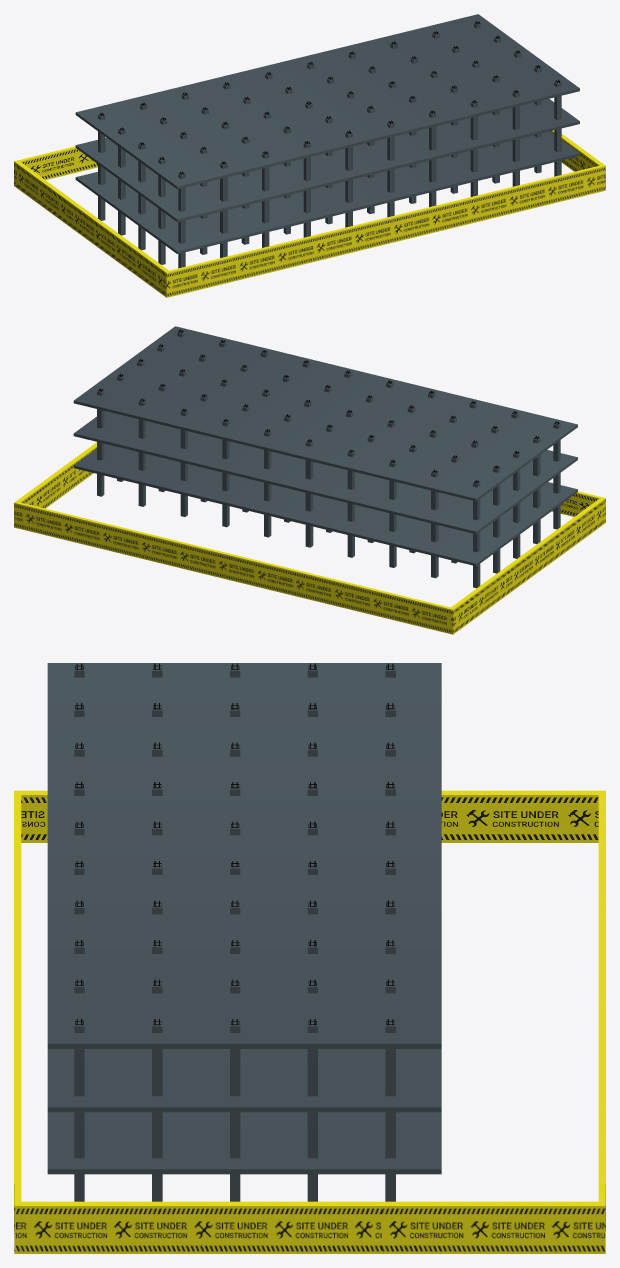
Rendered from Construction2.fbx.
The picture shows the model from 3 angles, top to bottom: view 1: azimuth 30°, elevation 25°; view 2: azimuth 150°, elevation 25°; view 3: azimuth 270°, elevation 25°; orthographic projection. The views are drawn at different scales.
Visible parts, largest first — view 1: PlaceContruction2_LOD0, GateConstruction2; view 2: PlaceContruction2_LOD0, GateConstruction2; view 3: PlaceContruction2_LOD0, GateConstruction2.
Boxes of the visible parts, bbox=[...] form: PlaceContruction2_LOD0: bbox=[75, 14, 579, 268]; GateConstruction2: bbox=[14, 130, 605, 297]; PlaceContruction2_LOD0: bbox=[73, 326, 577, 588]; GateConstruction2: bbox=[14, 442, 605, 634]; PlaceContruction2_LOD0: bbox=[47, 663, 441, 1201]; GateConstruction2: bbox=[14, 790, 605, 1253].
Size of what is drawn, in the model's own units: 7991 by 1847 by 4816.
